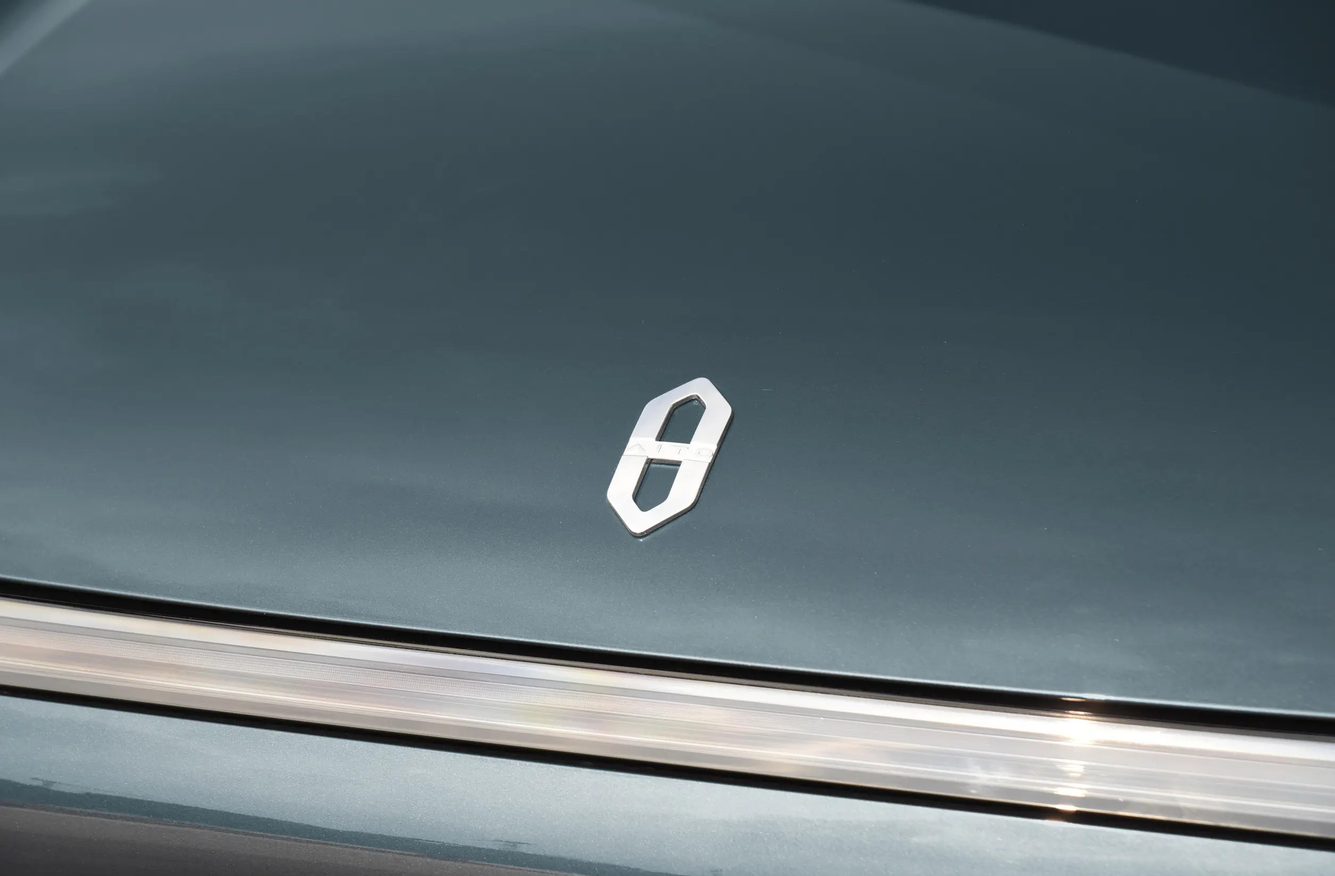AITO: (607, 378, 732, 536)
